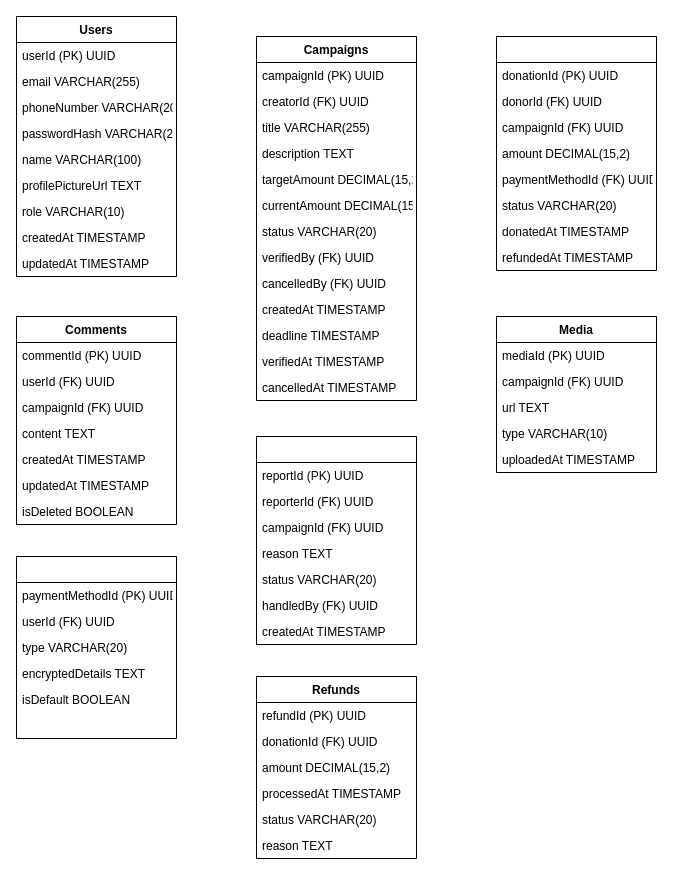
This 674x875 diagram has some shape labels left out. Here are the shapes that lost their labels. From the top down, the box of each, then its label:
(496, 36, 656, 270): Donations
(256, 436, 416, 644): Reports
(16, 556, 176, 738): PaymentMethods
